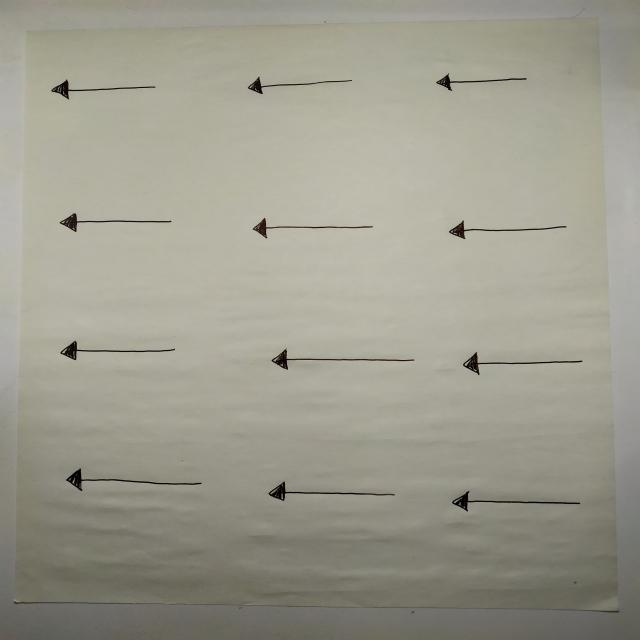arrow_line_left: (52, 464, 216, 505), (261, 344, 426, 378), (438, 486, 594, 520), (42, 206, 197, 238), (260, 475, 401, 509), (43, 334, 183, 367), (240, 212, 384, 244), (35, 71, 177, 102), (434, 214, 584, 242), (451, 348, 596, 376), (424, 68, 557, 96), (238, 72, 364, 96)
